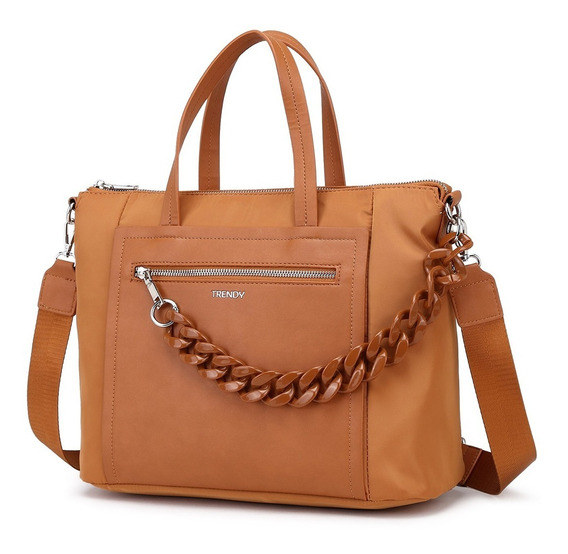cartera: (24, 28, 540, 514)
